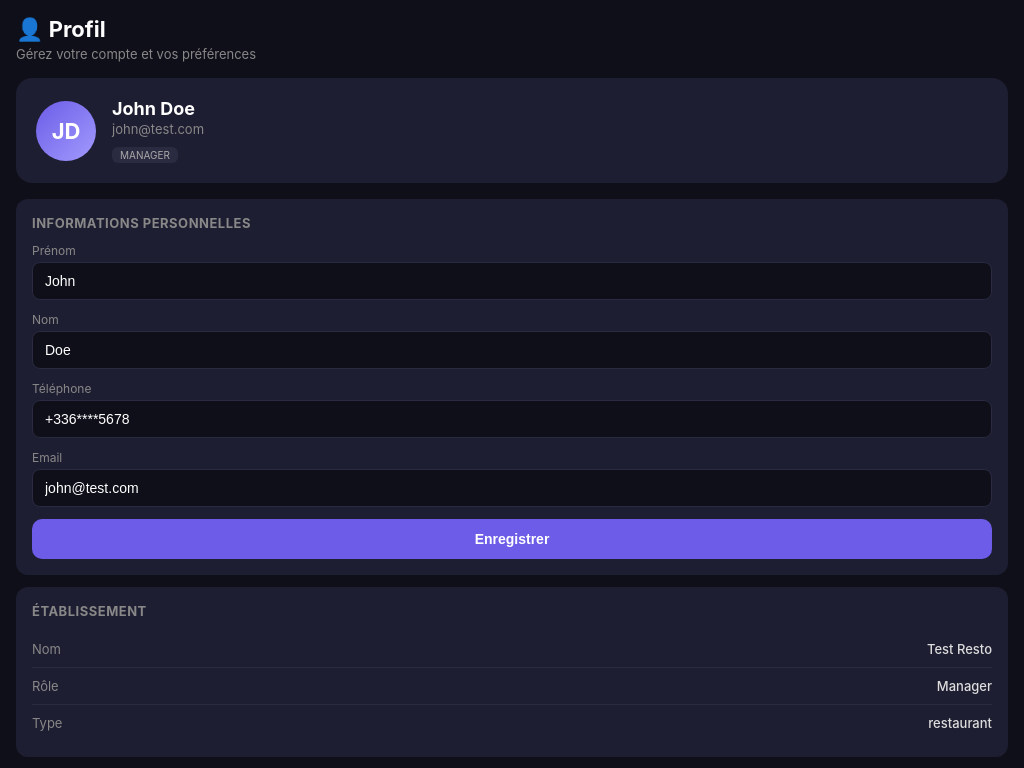
Profile.vue › saveProfile › appelle api.put avec les champs modifiés
The image size is (1024, 768).
Replace the text in the field below "Prénom" with "Jane" at (512, 281), box left=32, top=262, right=992, bottom=300
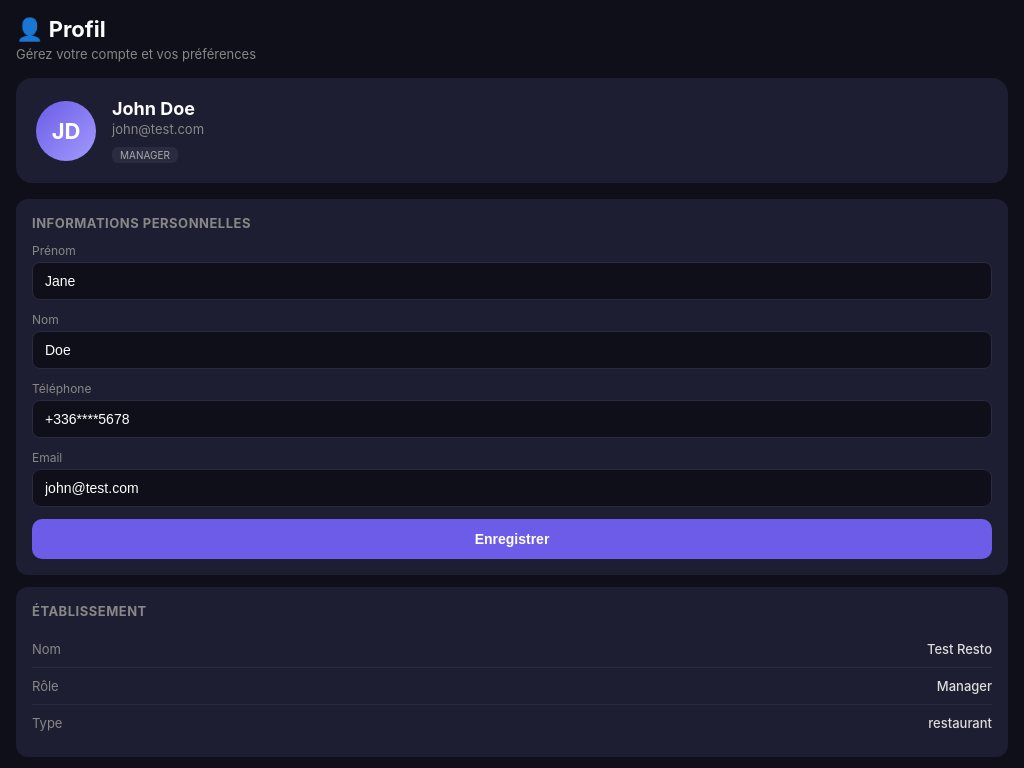
Replace the text in the 2nd field with "Smith" at (512, 350), box left=32, top=331, right=992, bottom=369
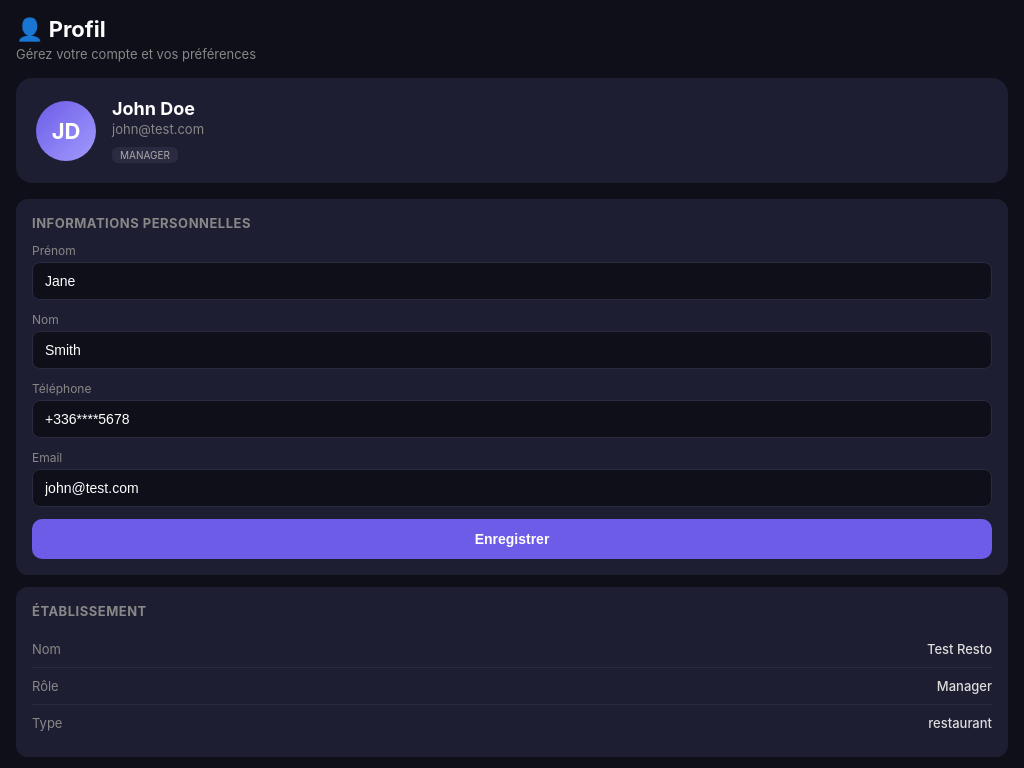
Click the button with class "btn-save" at (512, 539), box left=32, top=519, right=992, bottom=559
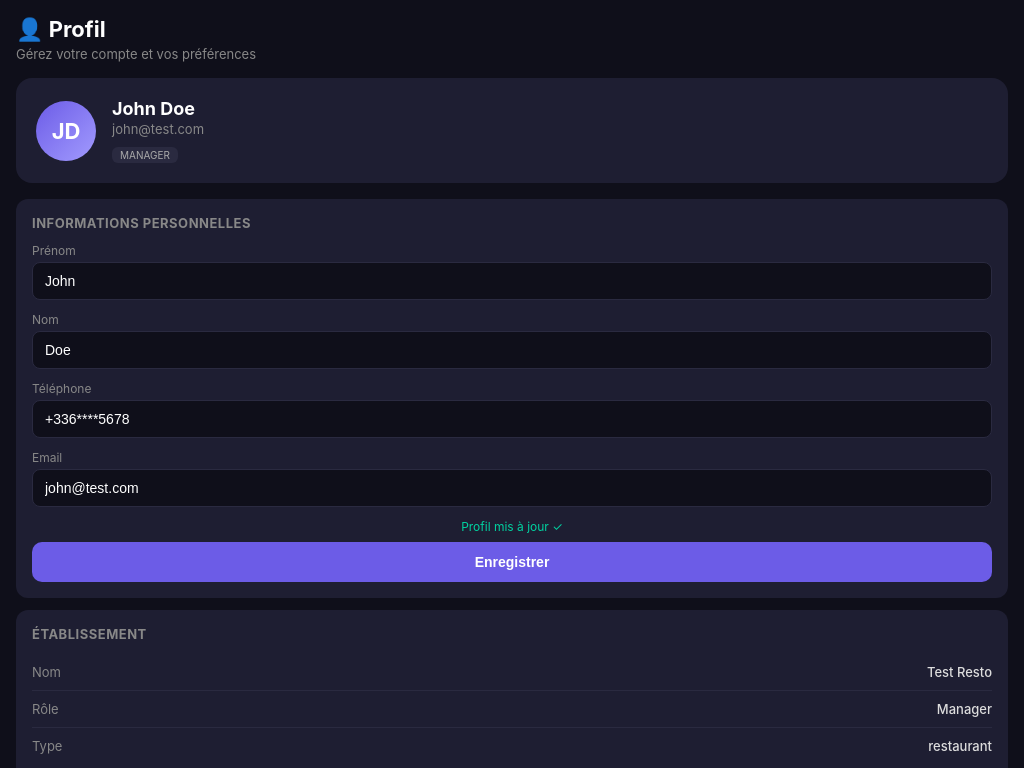
Expected: the text "Profil mis à jour" is shown, left=461, top=519, right=563, bottom=534
